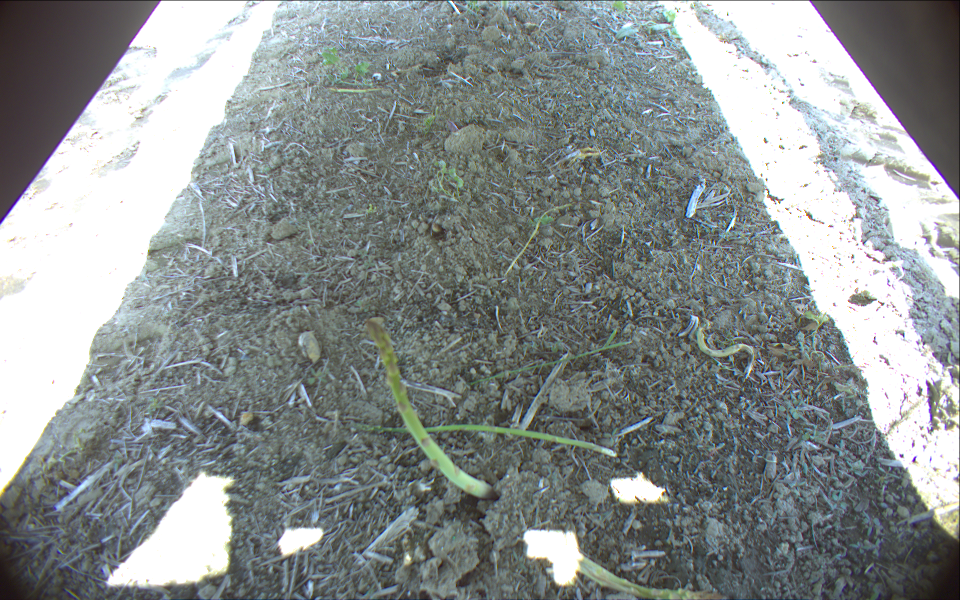aspa: (367, 320, 491, 497), (342, 418, 617, 456), (568, 555, 734, 600), (696, 328, 756, 377), (328, 87, 380, 96), (500, 1, 510, 10)
